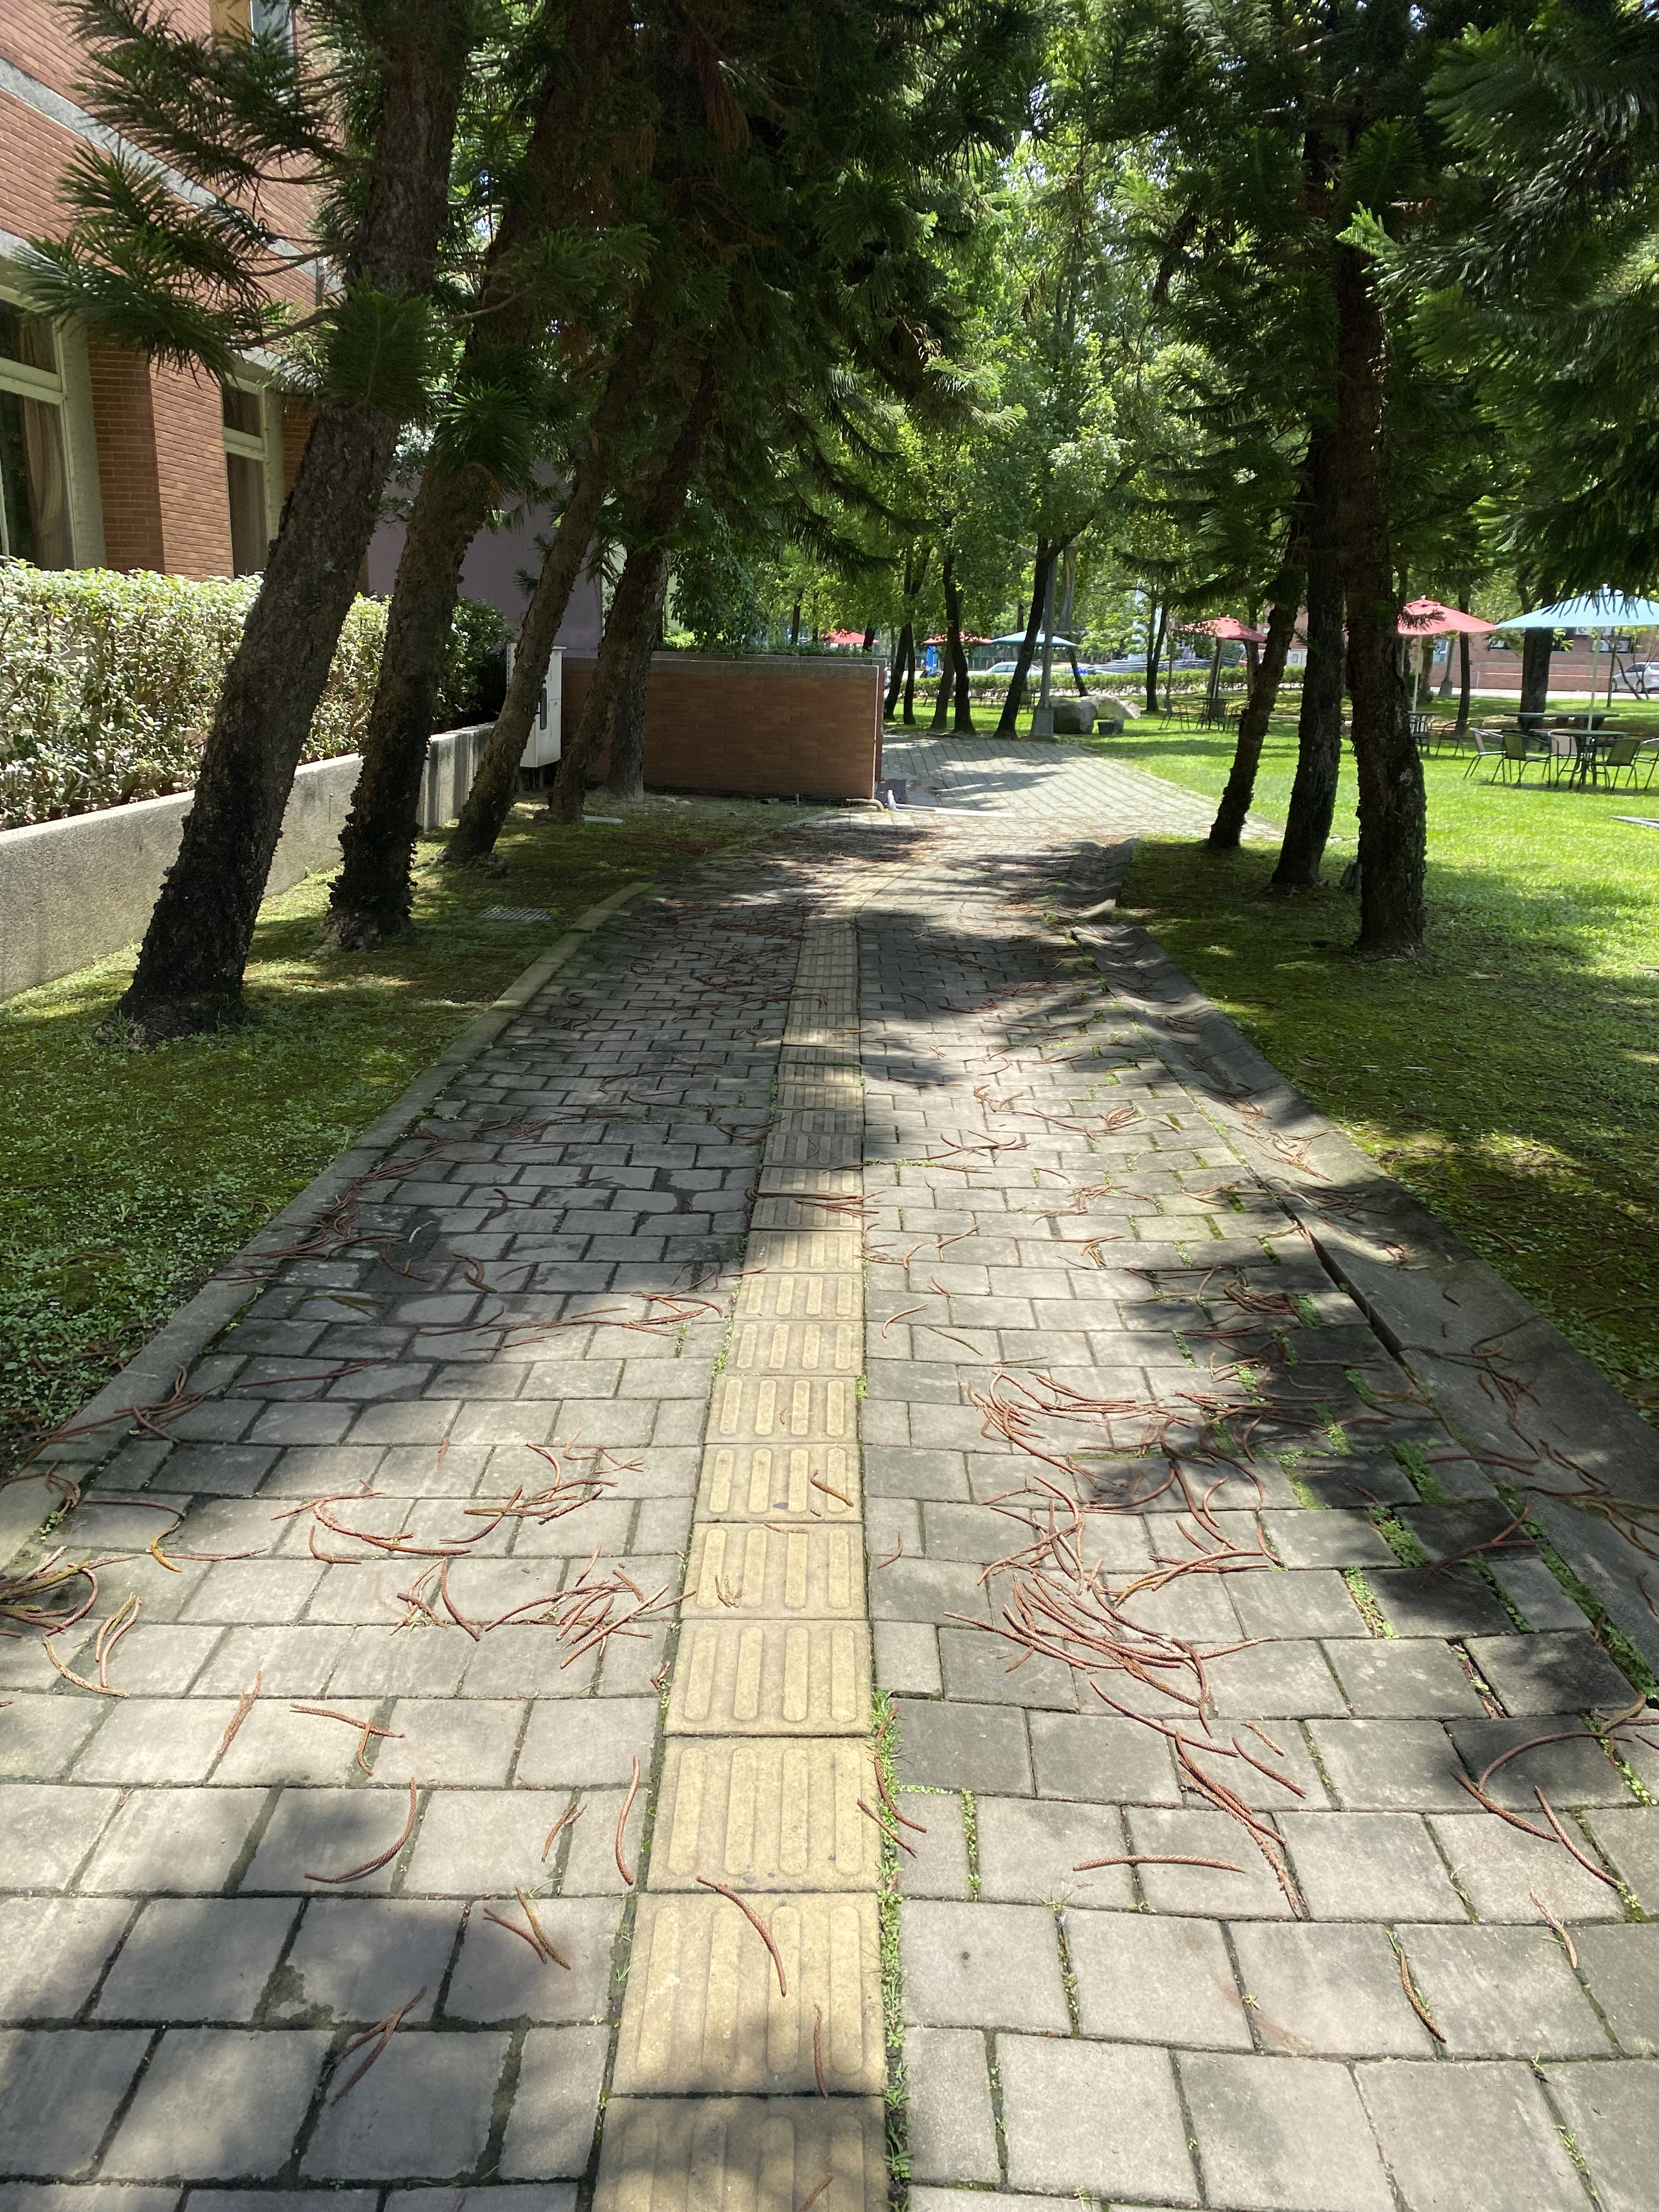sidewalk: (5, 669, 1657, 2212)
